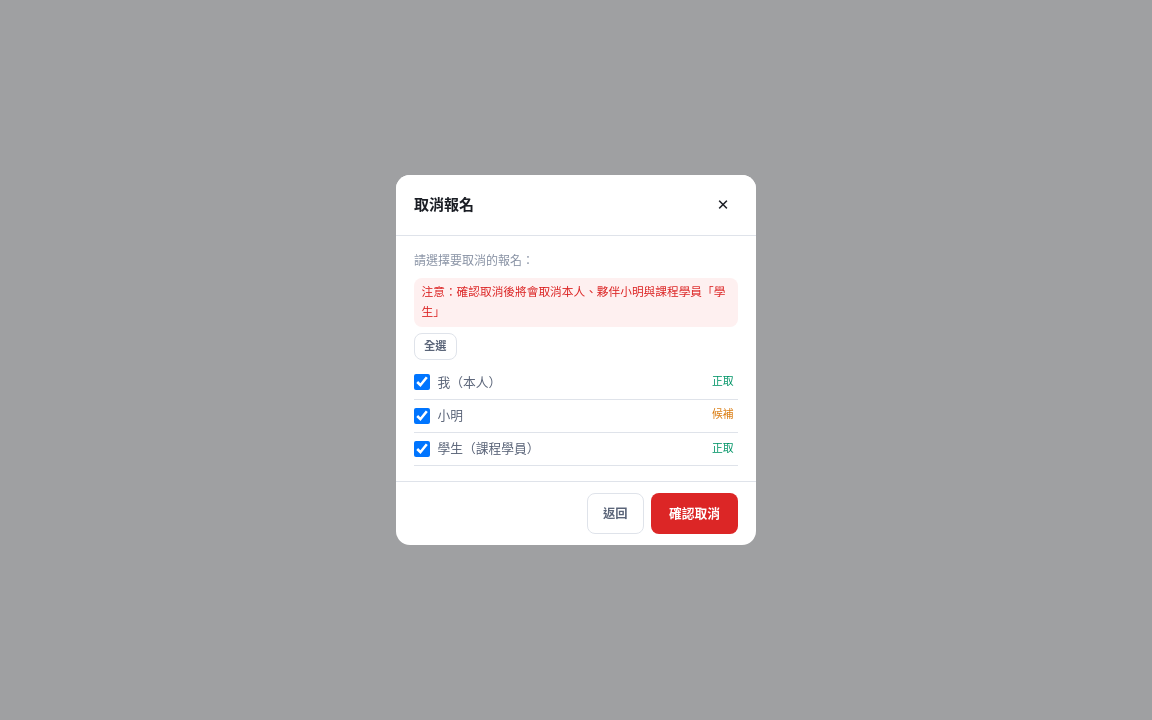
Test case: CompanionCancelModal › 全部取消勾選時顯示至少勾選一位且確認鈕 disabled
Click the checkbox labelled "我（本人） 正取" at coordinates (422, 382), box [414,374,430,390]
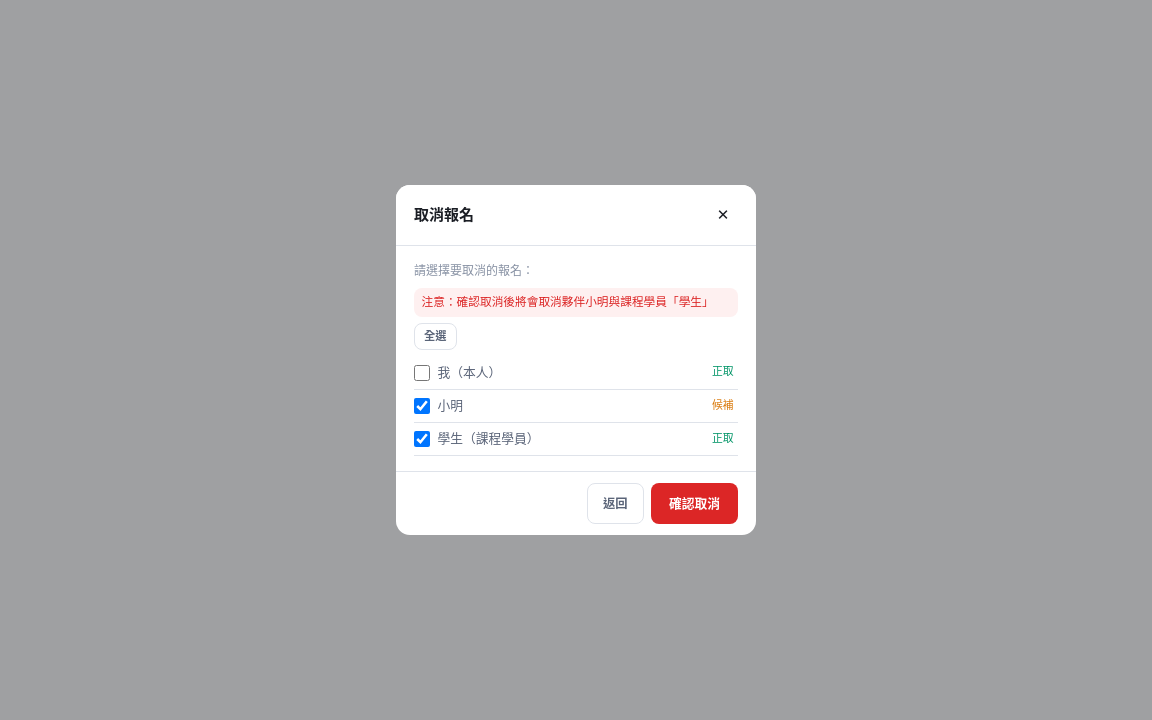
Click the checkbox labelled "小明 候補" at coordinates (422, 406), box [414,398,430,414]
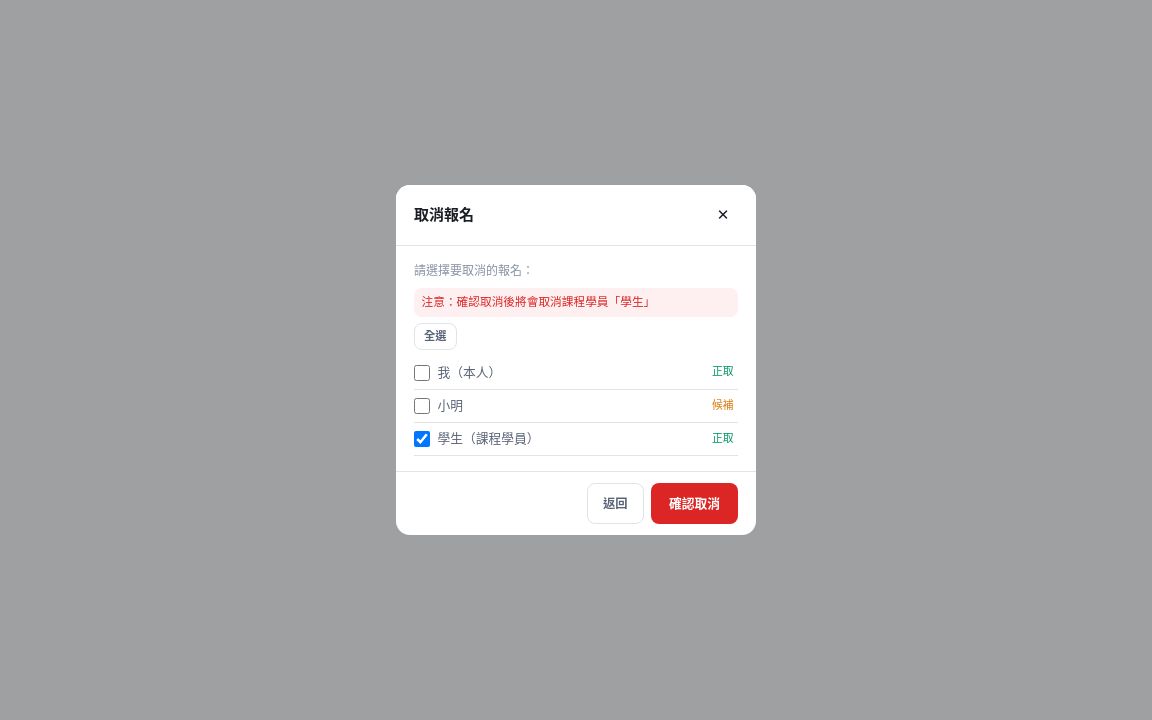
Click the checkbox labelled "學生（課程學員） 正取" at coordinates (422, 439), box [414,431,430,447]
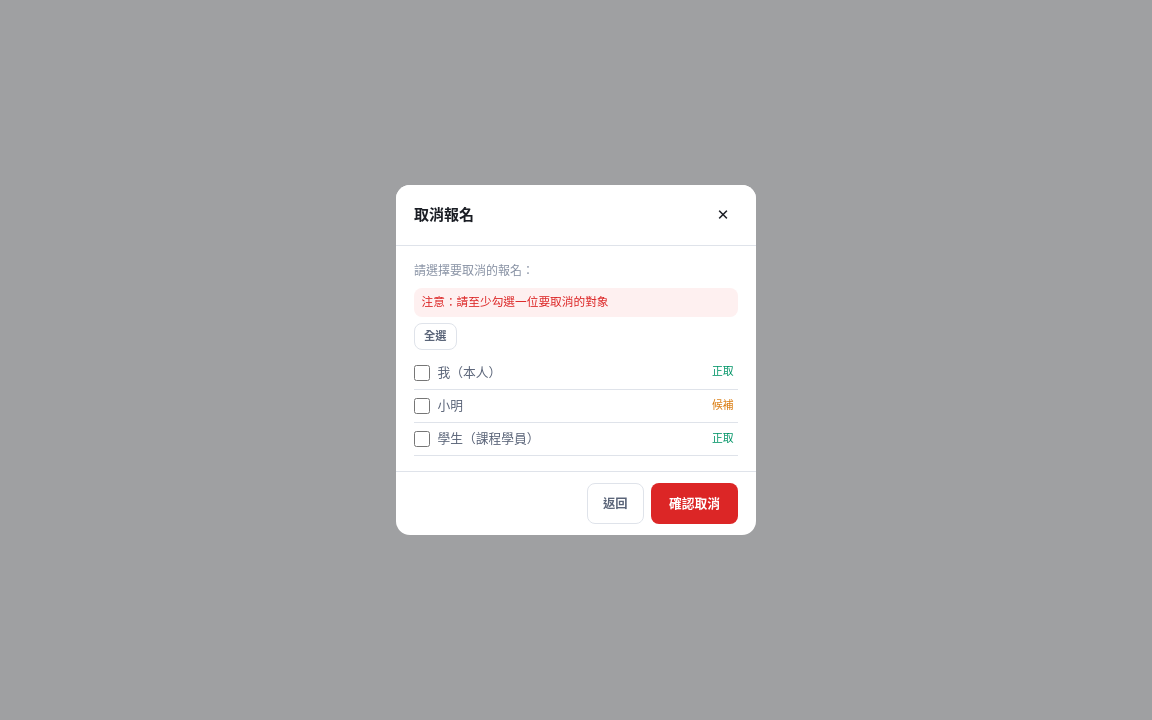
Check: the button "確認取消" is disabled, box [651,483,738,524]
Check: the text with id "companion-cancel-warn" reads "注意：請至少勾選一位要取消的對象", box [422,295,608,309]
